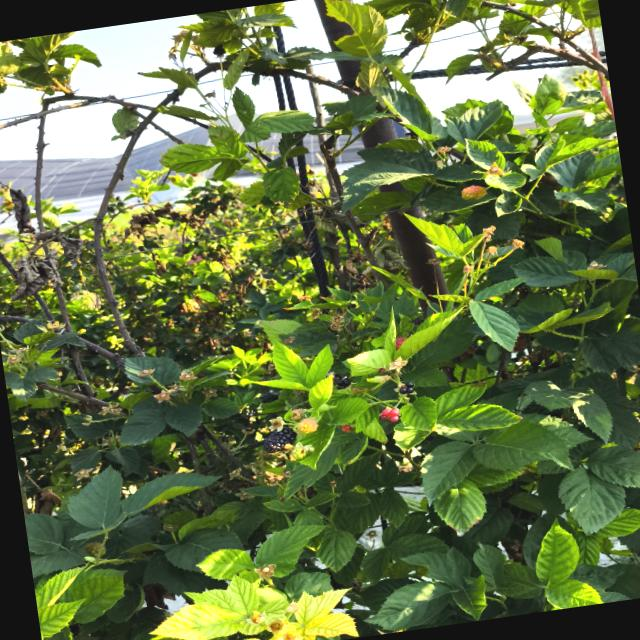maduro: (263, 426, 296, 453)
verde: (461, 186, 487, 200), (296, 418, 318, 434)
